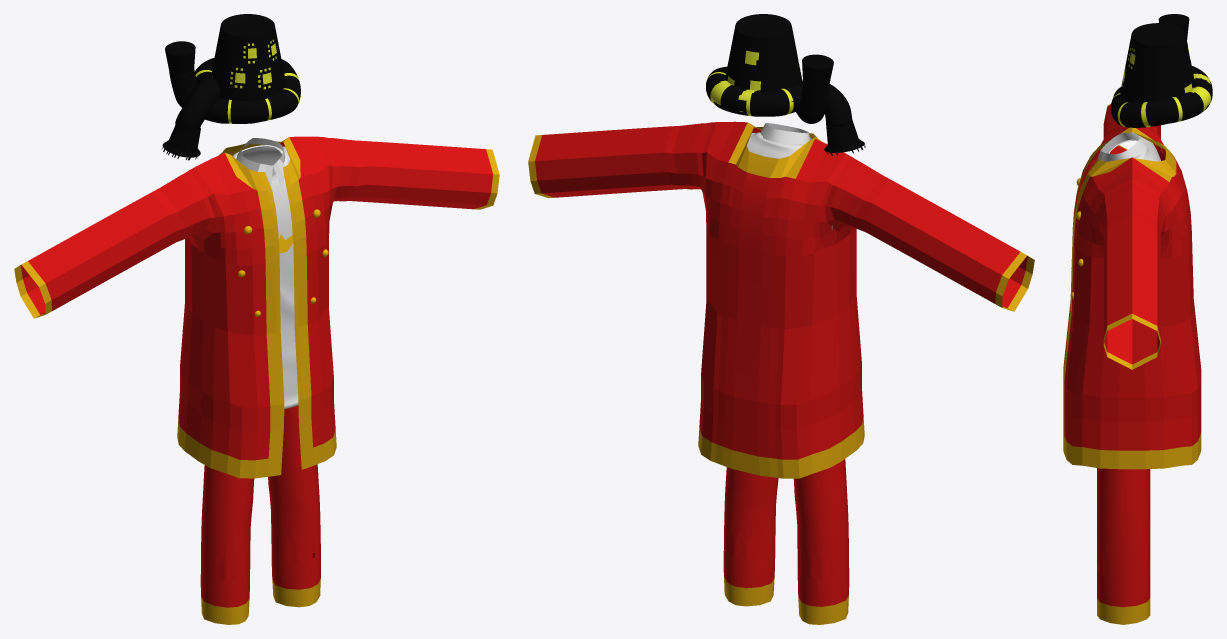
Rendered from Mandailing.FBX.
The picture shows the model from 3 angles, left to right: view 1: azimuth 30°, elevation 25°; view 2: azimuth 150°, elevation 25°; view 3: azimuth 270°, elevation 25°; orthographic projection. The views are drawn at different scales.
Visible parts, largest first — view 1: Baju, Plane027, Line001, Tshirt002, Line026; view 2: Baju, Plane027, Line001, Tshirt002, Line026; view 3: Baju, Plane027, Line001, Line026, Tshirt002.
Part boxes in pixels (<box>): Baju: <box>14,136,499,478</box>; Plane027: <box>200,405,320,624</box>; Line001: <box>161,14,300,160</box>; Tshirt002: <box>232,145,298,409</box>; Line026: <box>236,138,285,187</box>; Baju: <box>528,121,1034,478</box>; Plane027: <box>723,459,849,624</box>; Line001: <box>706,14,865,155</box>; Tshirt002: <box>747,132,832,230</box>; Line026: <box>760,123,811,144</box>; Baju: <box>1063,103,1201,469</box>; Plane027: <box>1097,468,1150,624</box>; Line001: <box>1110,14,1212,127</box>; Line026: <box>1097,132,1147,161</box>; Tshirt002: <box>1108,132,1160,161</box>.
Bounding box in the file's own units: 128 × 147 × 35.14.
